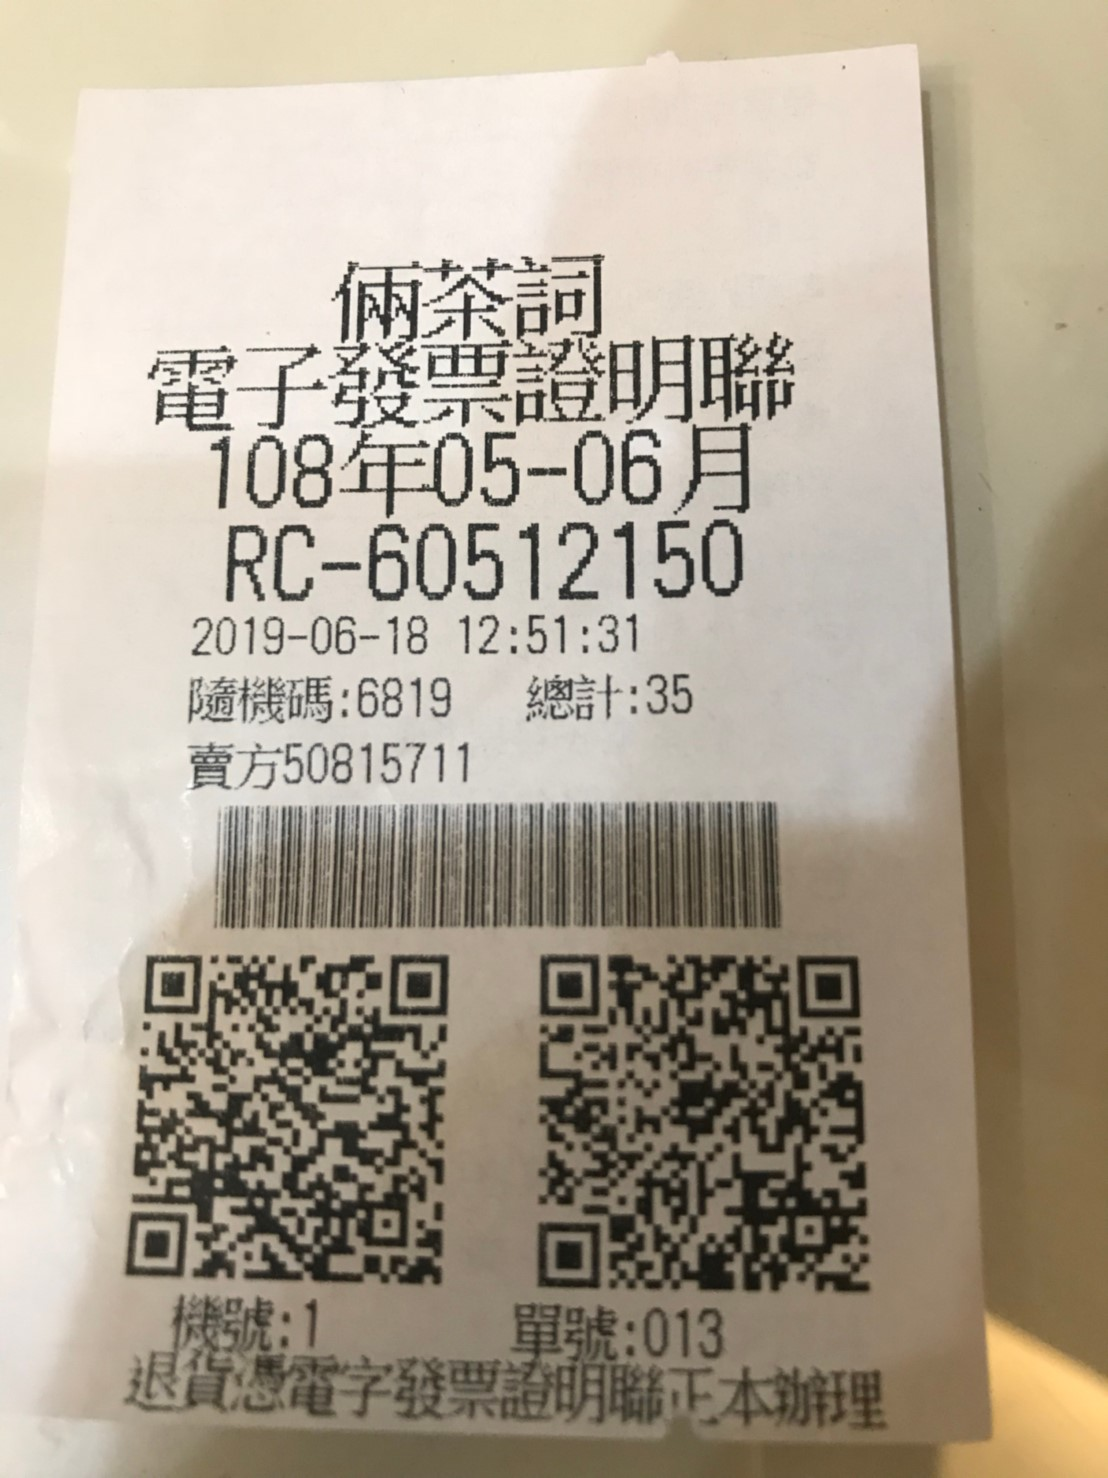Date_New: (208, 422, 755, 516)
Number_New: (365, 516, 750, 603)
